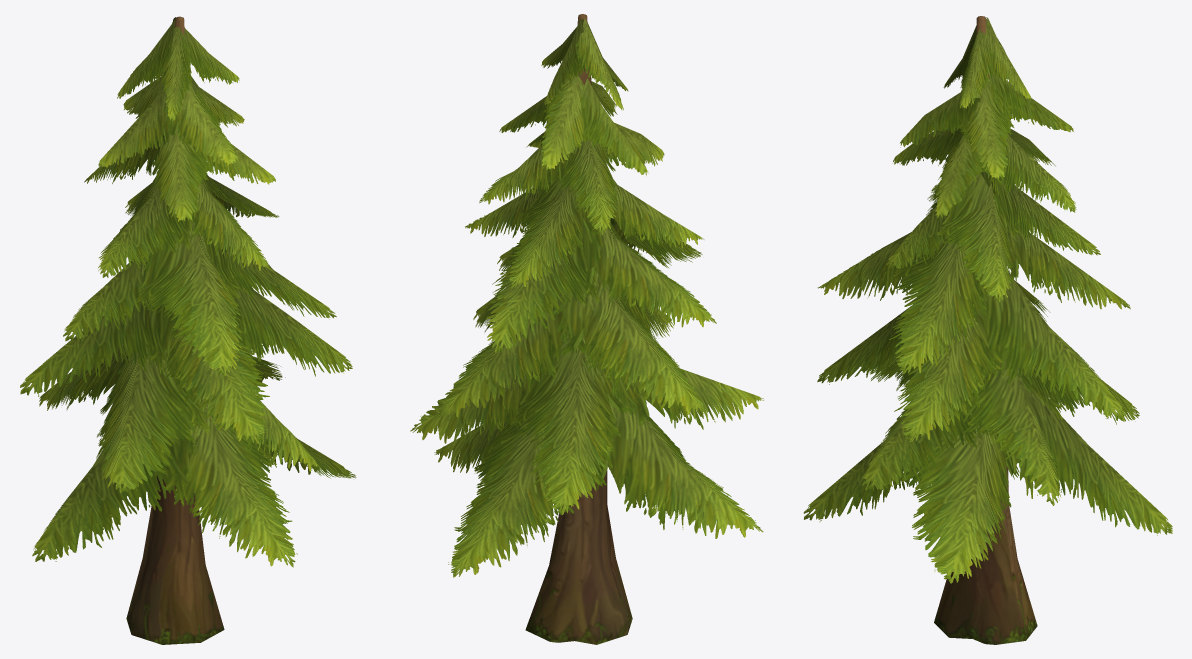
File: Coniferous_green02.FBX
3 views of the same model, side by side, from view 1: azimuth 30°, elevation 25°; view 2: azimuth 150°, elevation 25°; view 3: azimuth 270°, elevation 25° (orthographic).
Visible parts, largest first — view 1: Coniferous_green02; view 2: Coniferous_green02; view 3: Coniferous_green02.
Part boxes in pixels (left/top/right/bottom): Coniferous_green02: left=20, top=16, right=356, bottom=644; Coniferous_green02: left=410, top=14, right=763, bottom=644; Coniferous_green02: left=803, top=16, right=1172, bottom=644.
Size of the model in its own units: 1140 by 2005 by 1131.
